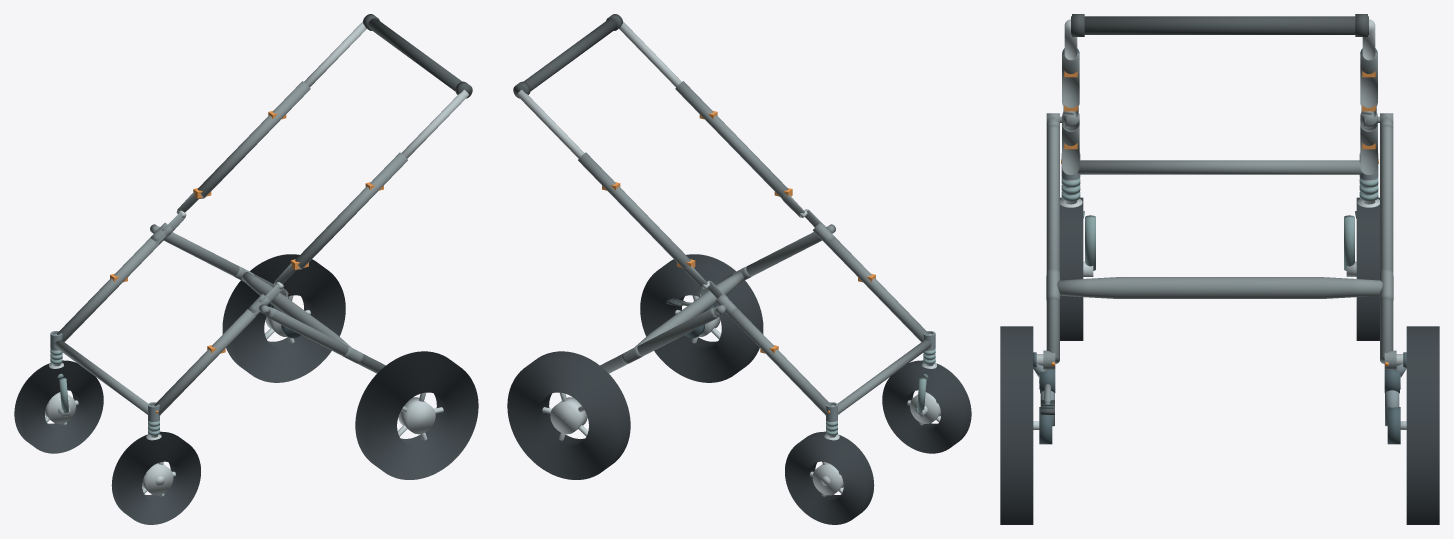
The model's file is w650_state1.glb.
3 views of the same model, side by side, from view 1: azimuth 30°, elevation 25°; view 2: azimuth 150°, elevation 25°; view 3: azimuth 270°, elevation 25° (orthographic). The views are drawn at different scales.
Parts seen in each view (by area): view 1: RL_tire.008, RR_tire.008, FL_tire.008, FR_tire.008, main_upper_1.009, main_upper_-1.009, main_lower_1.009, main_lower_-1.009, round_handle.008, V46_rear_leg_-1.009, V46_rearbar.009, front_fixed_round_tube.008 (+6 smaller); view 2: RR_tire.008, RL_tire.008, FR_tire.008, FL_tire.008, main_upper_1.009, main_upper_-1.009, main_lower_-1.009, main_lower_1.009, round_handle.008, V46_rear_leg_1.009, V46_rearbar.009, front_fixed_round_tube.008 (+6 smaller); view 3: V46_rearbar.009, RL_tire.008, RR_tire.008, round_handle.008, front_fixed_round_tube.008, FL_tire.008, FR_tire.008, V46_rear_leg_1.009, V46_rear_leg_-1.009, main_upper_-1.009, main_upper_1.009, main_lower_-1.009 (+4 smaller).
Part boxes in pixels (x1=…): RL_tire.008: x1=355, y1=351, x2=478, y2=479; RR_tire.008: x1=222, y1=254, x2=345, y2=382; FL_tire.008: x1=111, y1=431, x2=200, y2=524; FR_tire.008: x1=14, y1=360, x2=103, y2=453; main_upper_1.009: x1=197, y1=81, x2=310, y2=197; main_upper_-1.009: x1=295, y1=152, x2=407, y2=268; main_lower_1.009: x1=57, y1=234, x2=165, y2=341; main_lower_-1.009: x1=154, y1=309, x2=259, y2=415; round_handle.008: x1=368, y1=18, x2=471, y2=96; V46_rear_leg_-1.009: x1=267, y1=308, x2=385, y2=373; V46_rearbar.009: x1=241, y1=272, x2=351, y2=347; front_fixed_round_tube.008: x1=54, y1=340, x2=147, y2=414; RR_tire.008: x1=507, y1=351, x2=630, y2=479; RL_tire.008: x1=640, y1=254, x2=763, y2=382; FR_tire.008: x1=785, y1=431, x2=874, y2=524; FL_tire.008: x1=882, y1=360, x2=971, y2=453; main_upper_1.009: x1=578, y1=152, x2=690, y2=268; main_upper_-1.009: x1=675, y1=81, x2=788, y2=197; main_lower_-1.009: x1=820, y1=234, x2=928, y2=341; main_lower_1.009: x1=726, y1=309, x2=831, y2=415; round_handle.008: x1=514, y1=18, x2=617, y2=96; V46_rear_leg_1.009: x1=600, y1=308, x2=718, y2=373; V46_rearbar.009: x1=634, y1=272, x2=744, y2=347; front_fixed_round_tube.008: x1=838, y1=340, x2=931, y2=414; V46_rearbar.009: x1=1057, y1=277, x2=1382, y2=298; RL_tire.008: x1=1000, y1=326, x2=1033, y2=524; RR_tire.008: x1=1406, y1=326, x2=1439, y2=524; round_handle.008: x1=1071, y1=16, x2=1368, y2=34; front_fixed_round_tube.008: x1=1077, y1=160, x2=1362, y2=174; FL_tire.008: x1=1060, y1=197, x2=1083, y2=340; FR_tire.008: x1=1356, y1=197, x2=1379, y2=340; V46_rear_leg_1.009: x1=1380, y1=124, x2=1393, y2=363; V46_rear_leg_-1.009: x1=1046, y1=124, x2=1059, y2=363; main_upper_-1.009: x1=1062, y1=53, x2=1079, y2=107; main_upper_1.009: x1=1360, y1=53, x2=1377, y2=107; main_lower_-1.009: x1=1062, y1=123, x2=1079, y2=174.
Bounding box in the file's own units: 1.14 × 1.1 × 0.796.
